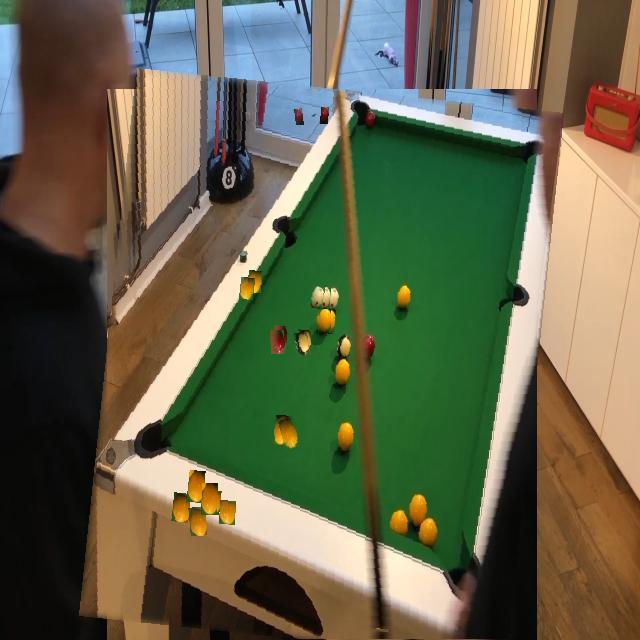Ball: (280, 418, 300, 450), (188, 507, 207, 536), (202, 483, 218, 515), (220, 501, 236, 525), (294, 332, 310, 356), (293, 358, 308, 383), (271, 330, 285, 354), (318, 309, 331, 333), (240, 278, 254, 300), (311, 287, 325, 309), (294, 108, 304, 125)
Billiard table: (93, 78, 550, 640)
